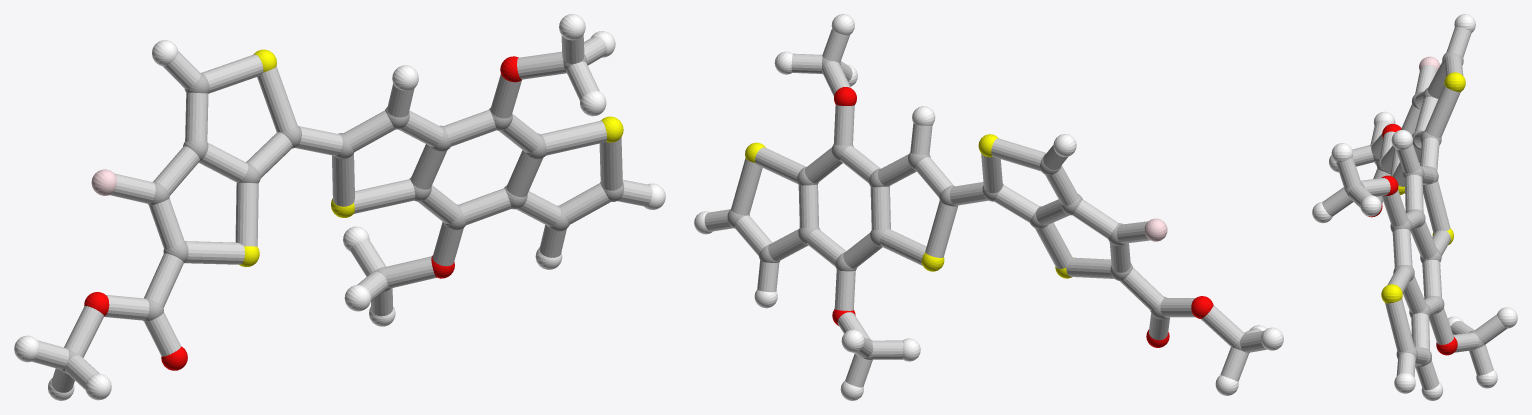
File: Dimethoxy_Benzodithiophene_Phi_5_Theta_40_Methylcarbonyl_3_Fluoro_Thienothiophene.glb
3 views of the same model, side by side, from view 1: azimuth 30°, elevation 25°; view 2: azimuth 150°, elevation 25°; view 3: azimuth 270°, elevation 25° (orthographic). The views are drawn at different scales.
Visible parts, largest first — view 1: grp15205, grp8689, grp1, grp13395, grp7241; view 2: grp15205, grp8689, grp1, grp13395, grp7241; view 3: grp15205, grp8689, grp1, grp7241, grp13395, grp14843.
Boxes of the visible parts, x1,y1,x2,y2 form: grp15205: [32, 35, 652, 392]; grp8689: [14, 14, 665, 400]; grp1: [60, 54, 624, 373]; grp13395: [84, 56, 521, 370]; grp7241: [239, 49, 623, 267]; grp15205: [704, 29, 1266, 387]; grp8689: [694, 14, 1283, 400]; grp1: [727, 57, 1249, 359]; grp13395: [832, 87, 1213, 347]; grp7241: [745, 134, 1072, 278]; grp15205: [1322, 26, 1506, 390]; grp8689: [1312, 14, 1517, 400]; grp1: [1344, 52, 1484, 366]; grp7241: [1381, 72, 1465, 303]; grp13395: [1366, 124, 1457, 355]; grp14843: [1419, 56, 1440, 70].
Size of the model in its own units: 17.15 by 8.72 by 5.74.
